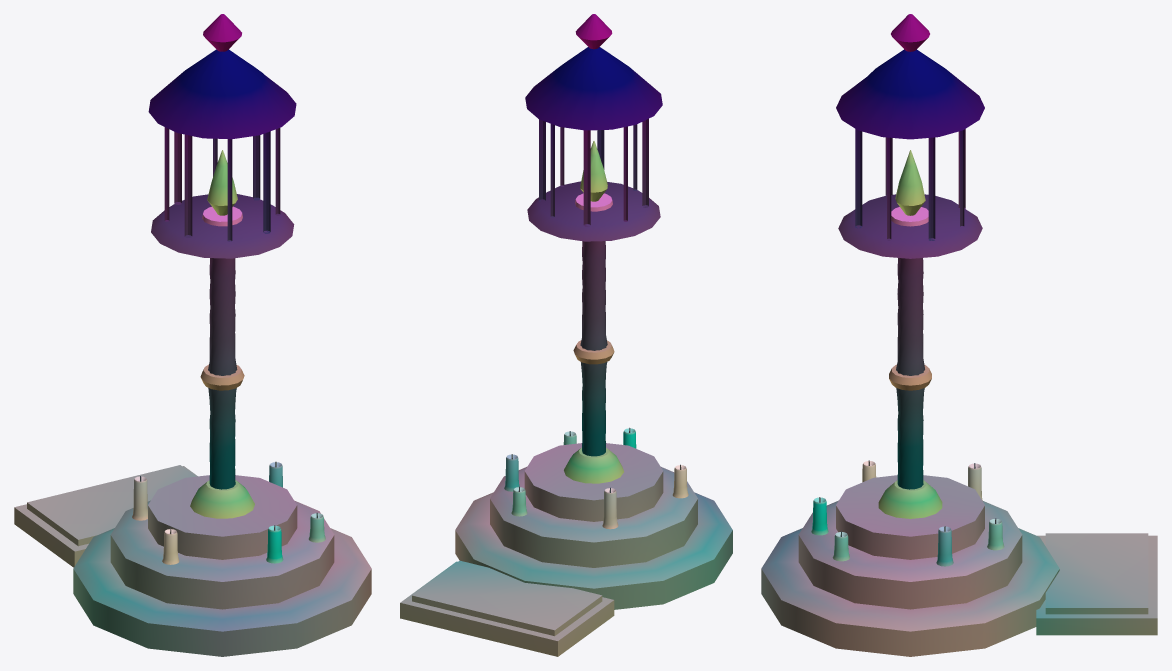
The model's file is vigil_lantern.glb.
3 renders of one model, left to right at view 1: azimuth 30°, elevation 25°; view 2: azimuth 150°, elevation 25°; view 3: azimuth 270°, elevation 25°, orthographic. The views are drawn at different scales.
Visible parts, largest first — view 1: socle, cage_roof, kneel_step, post, cage_base, post_collar_low, vigil_flame, finial_disc, cage_rib.004, cage_rib.006, post_collar_mid, candle.002 (+7 smaller); view 2: socle, kneel_step, cage_roof, cage_base, post, post_collar_low, vigil_flame, finial_disc, cage_rib.002, cage_rib.004, post_collar_mid, cage_rib (+2 smaller); view 3: socle, kneel_step, cage_roof, post, cage_base, post_collar_low, vigil_flame, finial_disc, cage_rib, cage_rib.006, post_collar_mid, candle.
Part boxes in pixels (left/top/right/bottom): socle: left=73, top=475, right=371, bottom=656; cage_roof: left=148, top=49, right=296, bottom=139; kneel_step: left=14, top=465, right=197, bottom=567; post: left=208, top=258, right=237, bottom=489; cage_base: left=151, top=194, right=294, bottom=258; post_collar_low: left=190, top=480, right=254, bottom=518; vigil_flame: left=207, top=150, right=237, bottom=215; finial_disc: left=203, top=14, right=241, bottom=51; cage_rib.004: left=184, top=134, right=192, bottom=237; cage_rib.006: left=263, top=131, right=270, bottom=233; post_collar_mid: left=200, top=364, right=244, bottom=390; candle.002: left=132, top=476, right=147, bottom=520; socle: left=455, top=443, right=732, bottom=609; kneel_step: left=400, top=560, right=614, bottom=656; cage_roof: left=525, top=47, right=662, bottom=130; cage_base: left=527, top=181, right=660, bottom=241; post: left=580, top=241, right=607, bottom=456; post_collar_low: left=564, top=448, right=623, bottom=483; vigil_flame: left=580, top=141, right=607, bottom=201; finial_disc: left=575, top=14, right=612, bottom=49; cage_rib.002: left=583, top=130, right=590, bottom=226; cage_rib.004: left=642, top=118, right=648, bottom=207; post_collar_mid: left=573, top=340, right=614, bottom=364; cage_rib: left=539, top=119, right=545, bottom=201; socle: left=761, top=475, right=1059, bottom=656; kneel_step: left=1036, top=533, right=1157, bottom=635; cage_roof: left=836, top=49, right=984, bottom=139; post: left=896, top=258, right=924, bottom=489; cage_base: left=838, top=194, right=982, bottom=258; post_collar_low: left=878, top=480, right=942, bottom=518; vigil_flame: left=895, top=150, right=925, bottom=215; finial_disc: left=891, top=14, right=929, bottom=51; cage_rib: left=928, top=137, right=935, bottom=240; cage_rib.006: left=855, top=129, right=862, bottom=228; post_collar_mid: left=889, top=364, right=931, bottom=390; candle: left=936, top=526, right=953, bottom=566.
Size of the model in its own units: 1.28 by 2.74 by 1.7.
